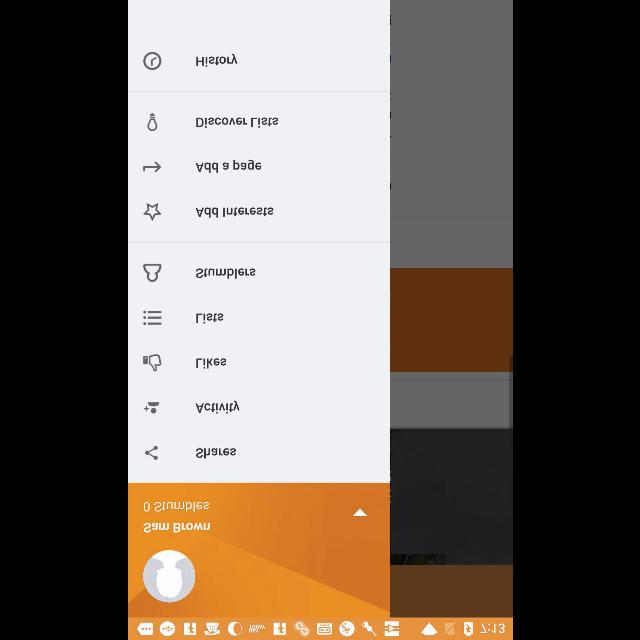icon: (142, 550, 194, 602), (143, 52, 161, 70), (143, 203, 161, 221), (143, 264, 161, 282), (142, 310, 162, 326), (142, 161, 160, 173), (144, 446, 158, 460), (143, 402, 159, 414), (351, 508, 367, 516)
image: (143, 354, 161, 372), (147, 113, 157, 131)
panel: (128, 0, 388, 618)
text: (195, 206, 273, 218), (196, 118, 278, 128), (195, 160, 261, 172), (143, 522, 210, 532), (143, 502, 209, 512), (195, 268, 255, 278), (195, 401, 239, 414), (195, 54, 237, 66), (194, 448, 236, 458), (195, 312, 223, 324), (196, 358, 227, 368)
uppertaskbar: (128, 617, 512, 639)
